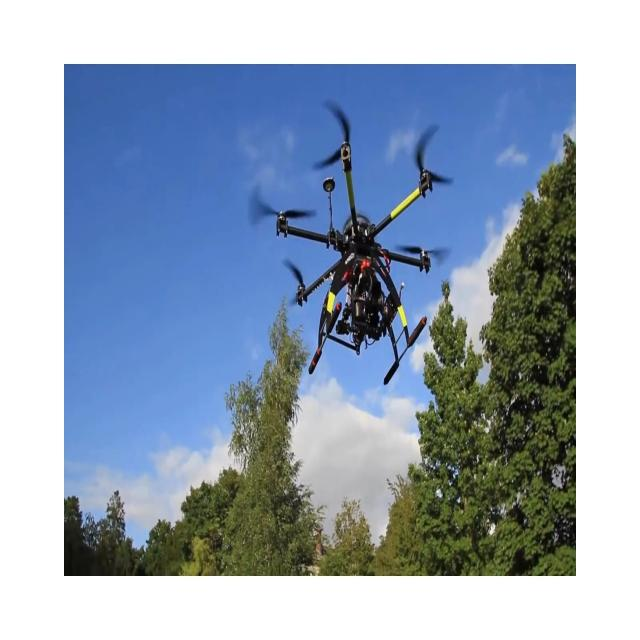drone: (248, 98, 454, 386)
